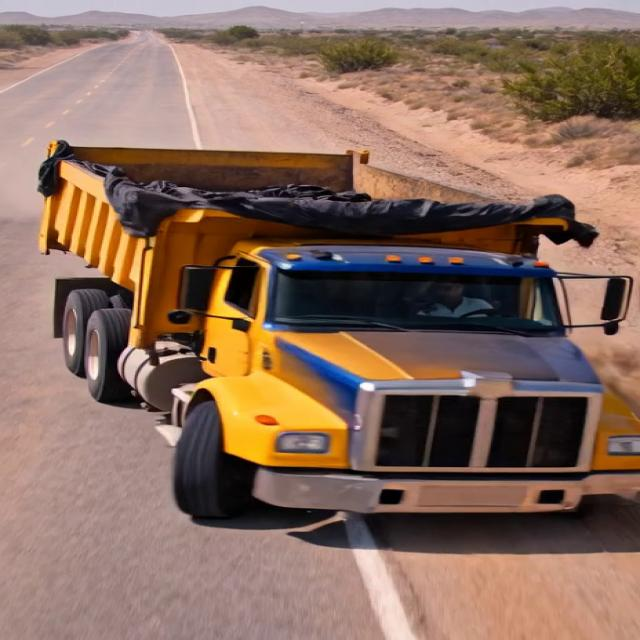trailer: (29, 130, 604, 246)
truck: (26, 100, 640, 517)
